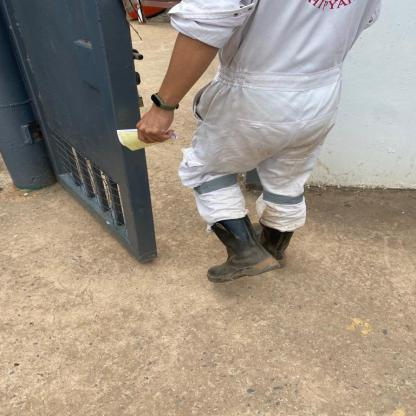bota: (202, 214, 280, 284), (254, 221, 291, 266)
